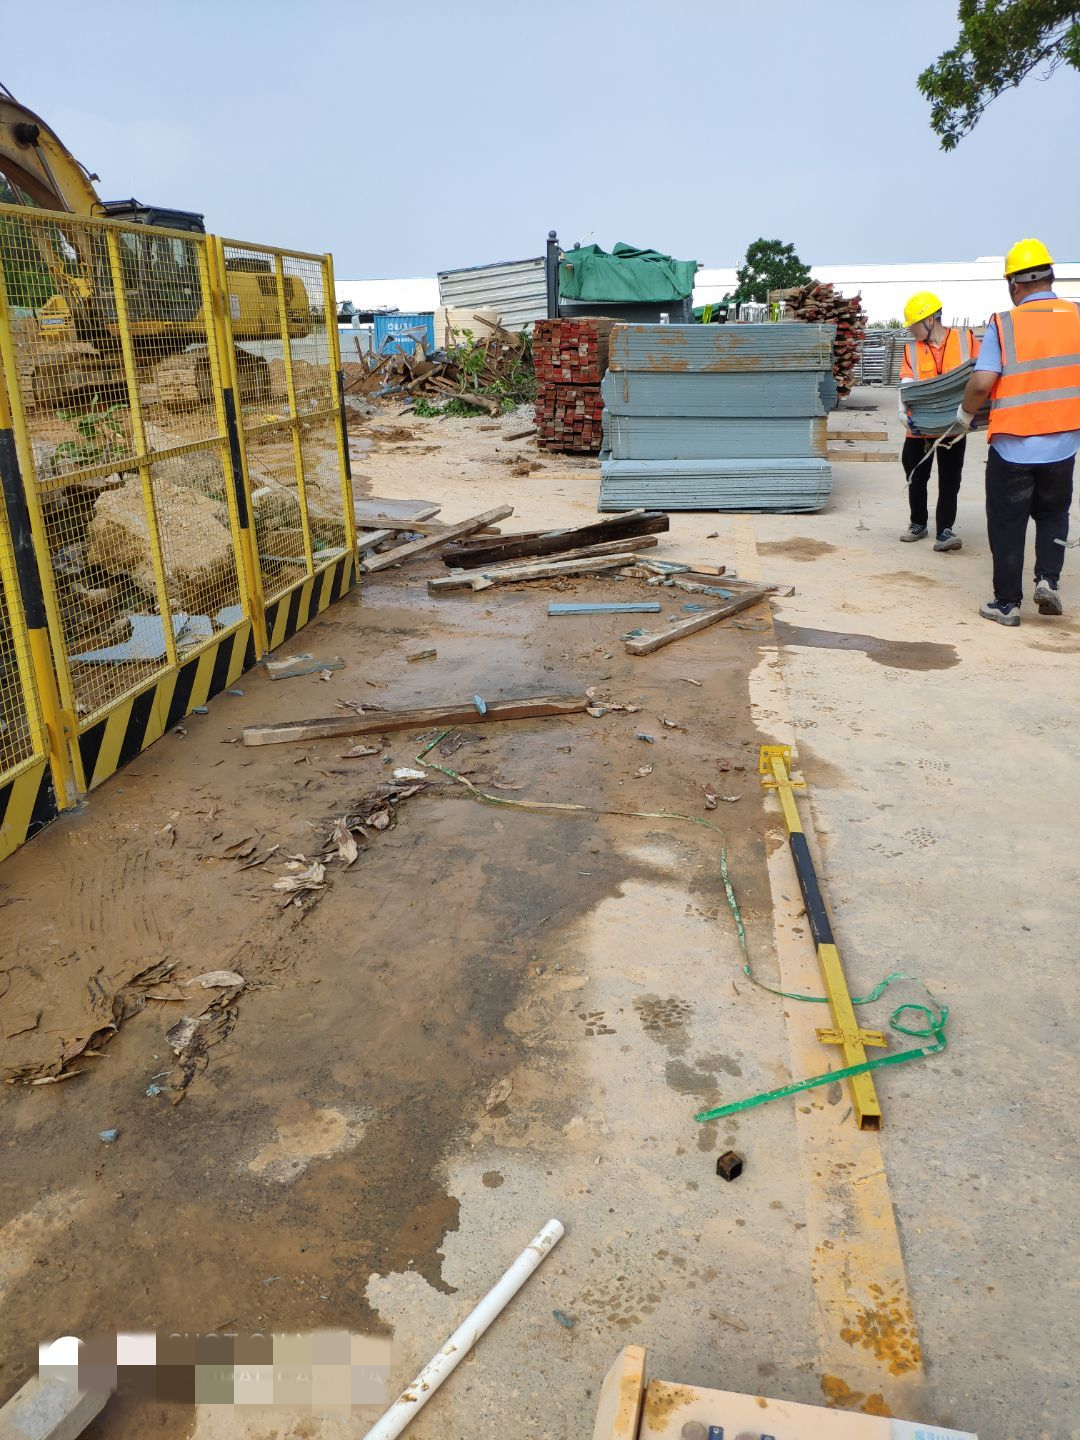helmet: (1004, 237, 1054, 274), (898, 292, 944, 318)
person: (979, 238, 1074, 627), (894, 292, 969, 555)
vest: (989, 302, 1080, 465), (899, 334, 968, 390)
